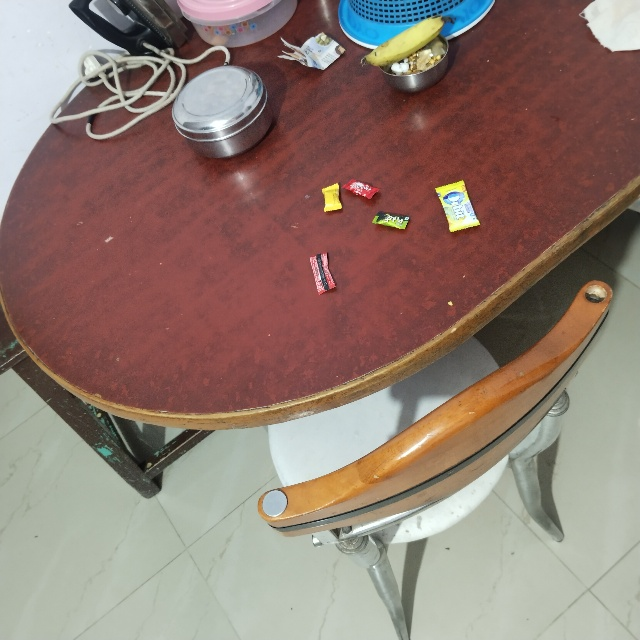Alpenlibe Creamfills: (317, 187, 338, 215)
Mazelo: (351, 173, 383, 190)
Nescafe Coffee: (301, 255, 329, 299)
Orbit: (436, 187, 468, 234)
Pulse: (377, 207, 411, 225)
